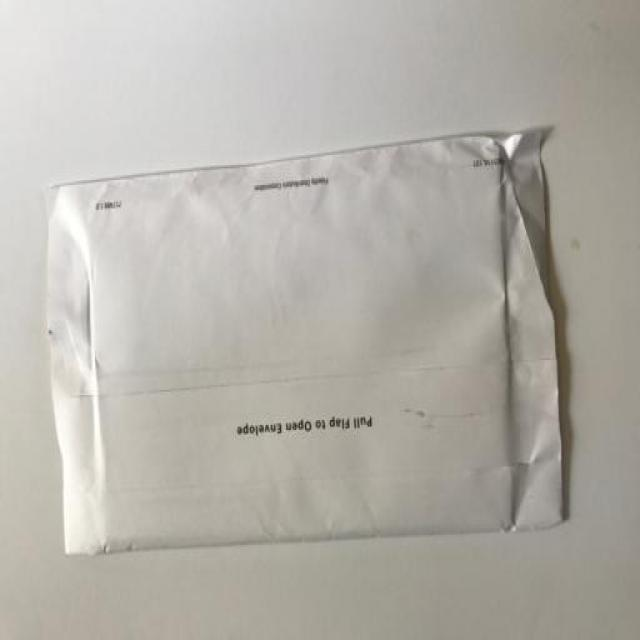paper: (12, 107, 603, 578)
